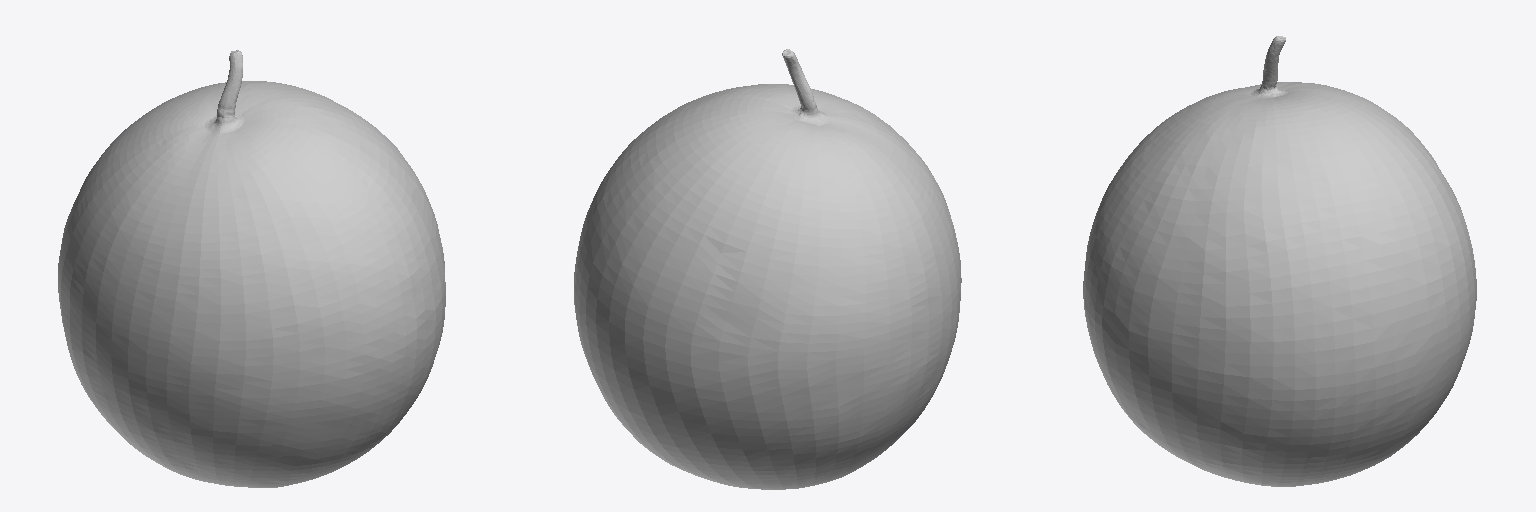
Rendered from watermelon.obj.
3 views of the same model, side by side, from view 1: azimuth 30°, elevation 25°; view 2: azimuth 150°, elevation 25°; view 3: azimuth 270°, elevation 25° (orthographic).
Visible parts, largest first — view 1: SMK_JJ0KQAO2_Watermelon; view 2: SMK_JJ0KQAO2_Watermelon; view 3: SMK_JJ0KQAO2_Watermelon.
Boxes of the visible parts, <box> form: SMK_JJ0KQAO2_Watermelon: <box>58,50,445,487</box>; SMK_JJ0KQAO2_Watermelon: <box>574,49,961,489</box>; SMK_JJ0KQAO2_Watermelon: <box>1083,36,1476,486</box>.
Size of the model in its own units: 0.3412 by 0.4092 by 0.3474.